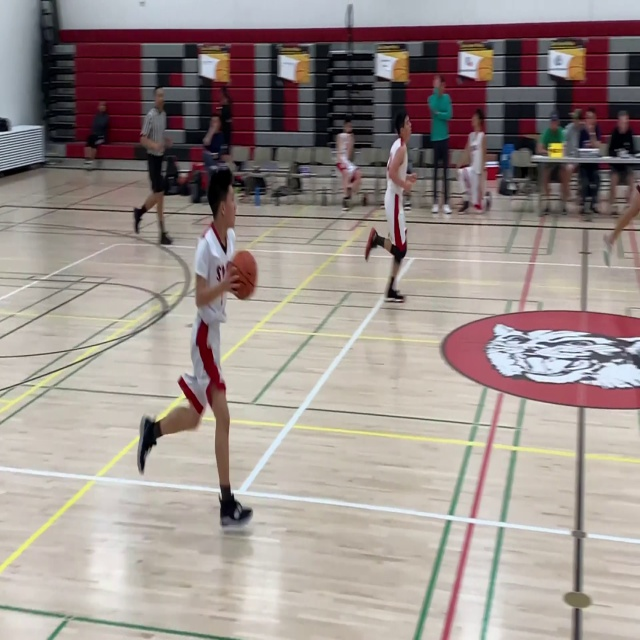Basketball: (227, 250, 257, 300)
